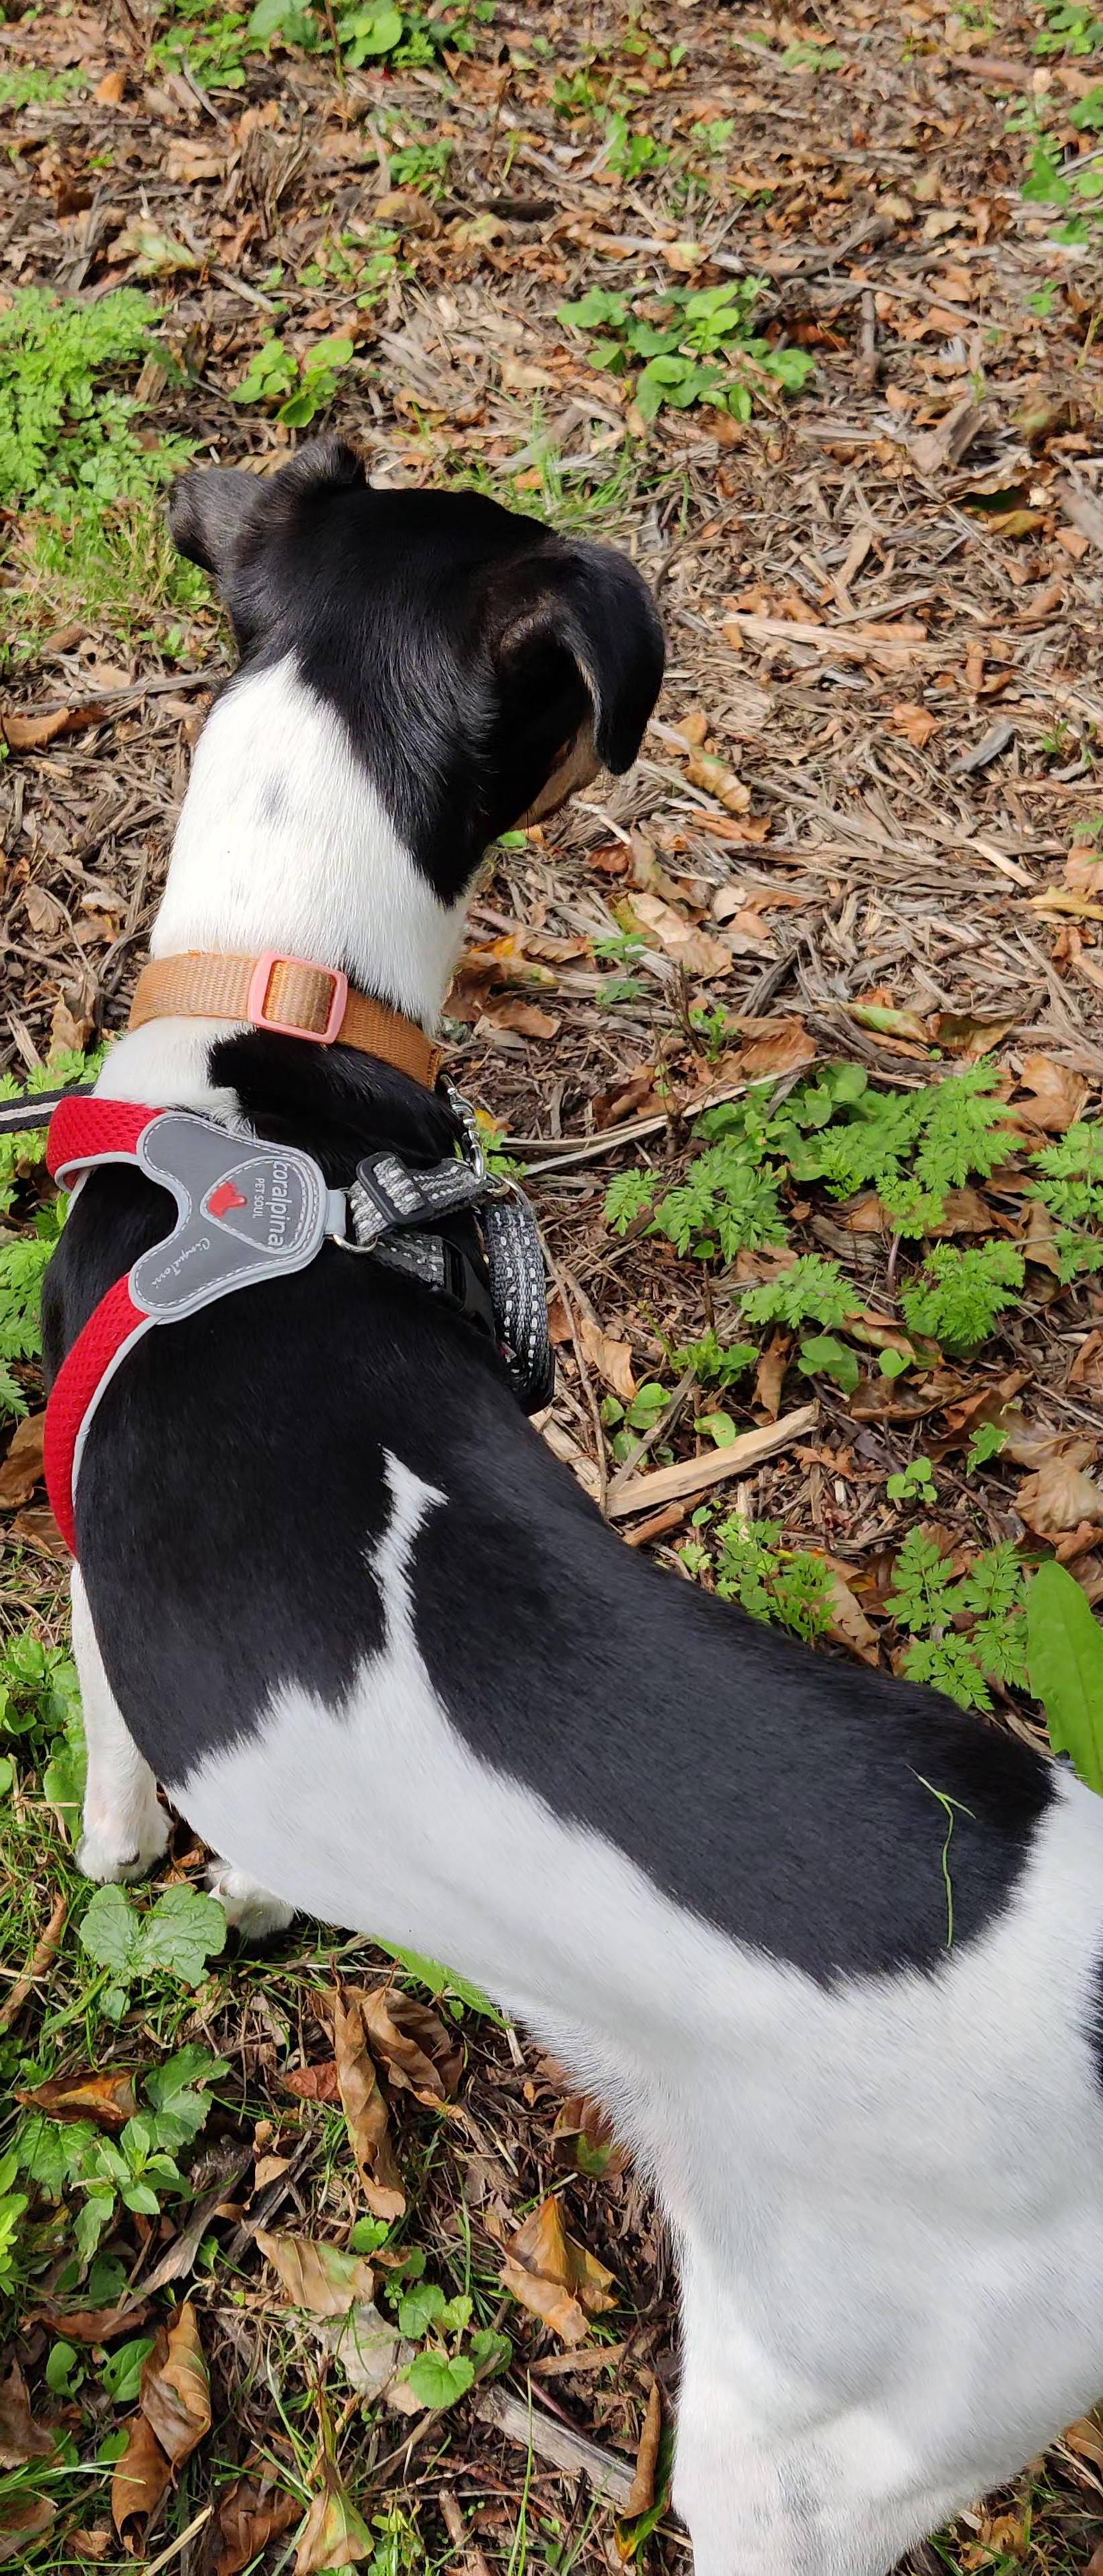Dog: (35, 421, 1103, 2576)
